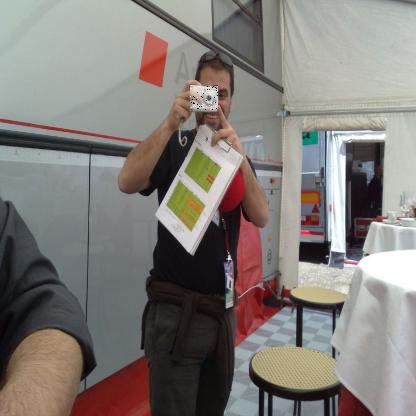Camera: (191, 87, 220, 113)
